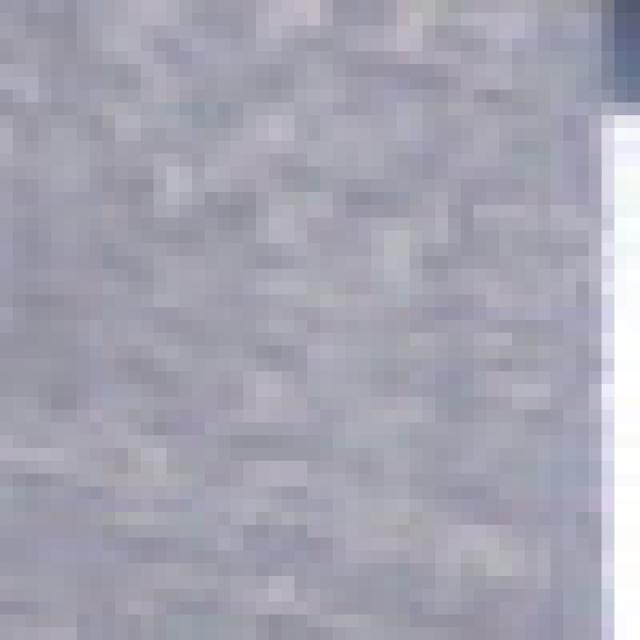no_fire: (13, 28, 615, 622)
